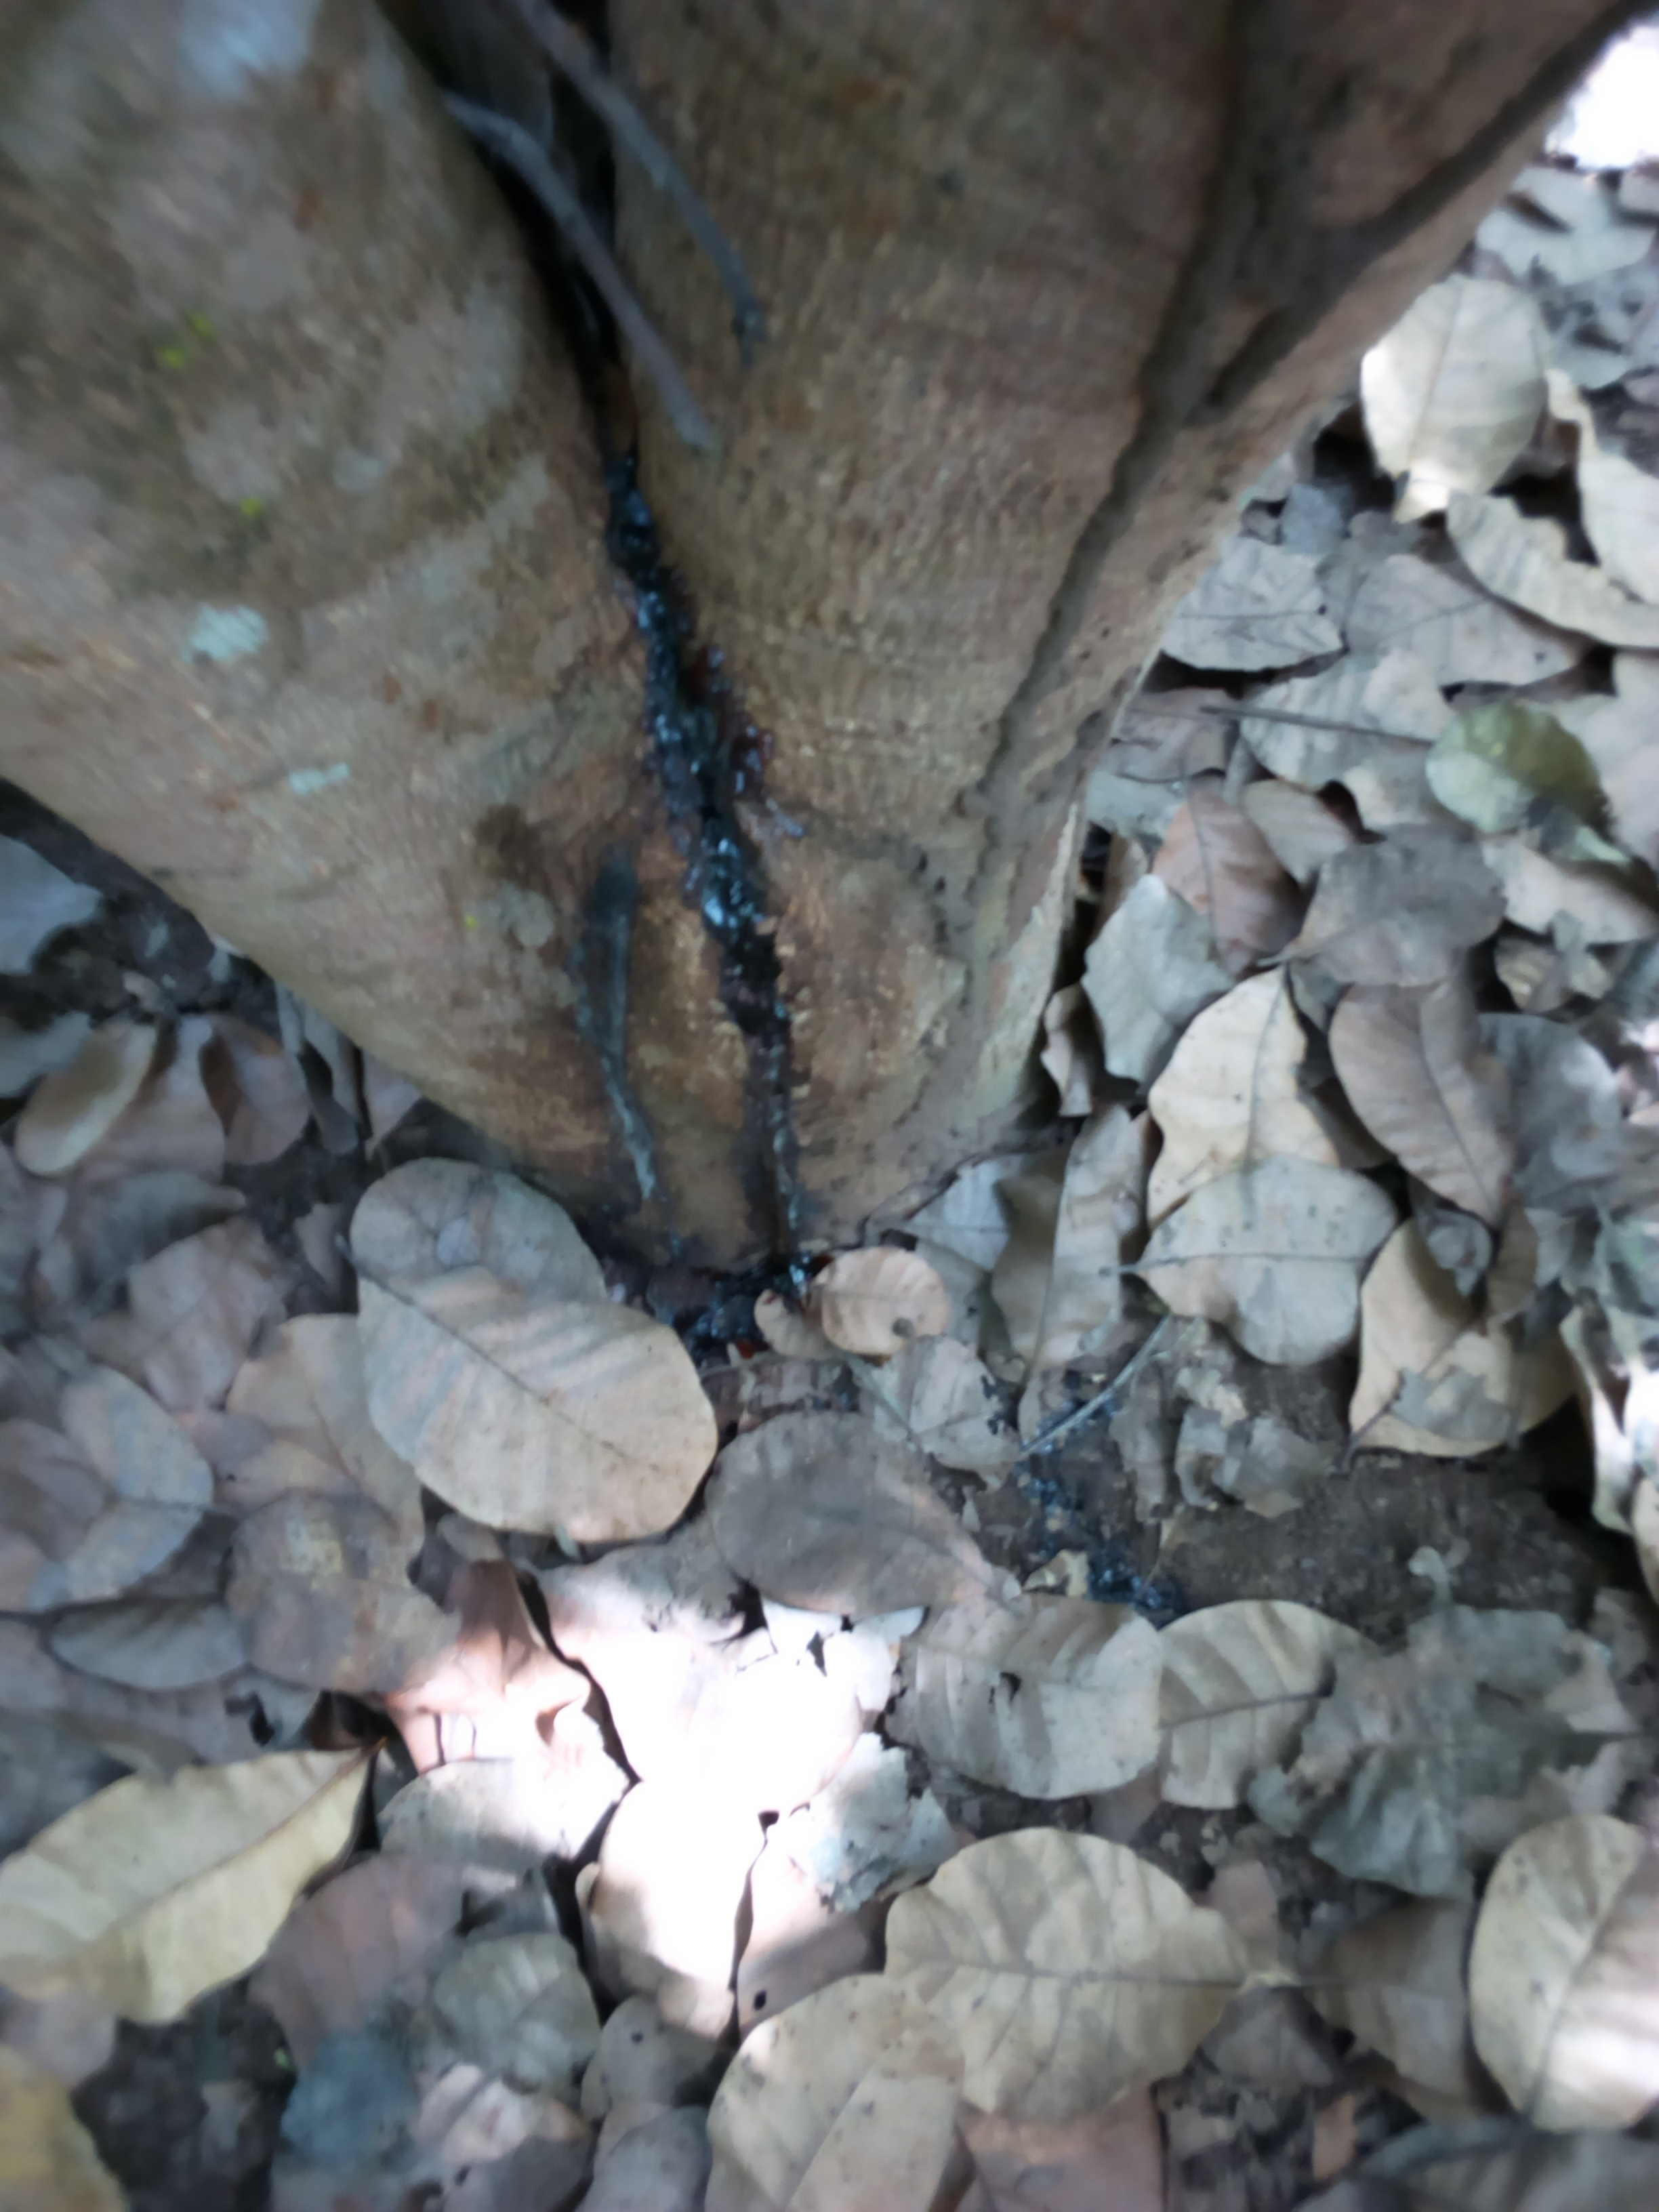Mecocorynus longiceps: (575, 392, 890, 1285)
